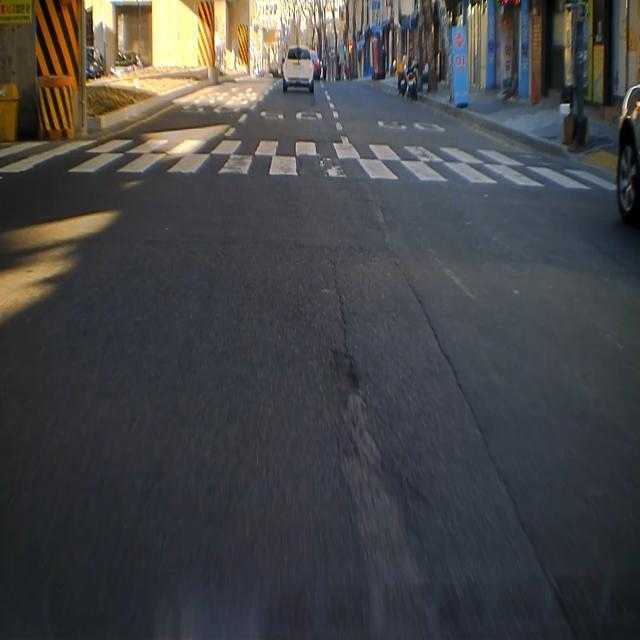pothole: (326, 343, 371, 425)
